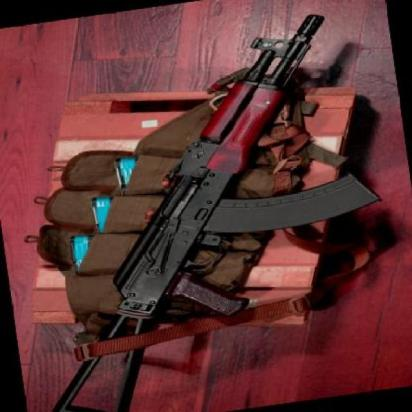Gun: (64, 13, 380, 412)
